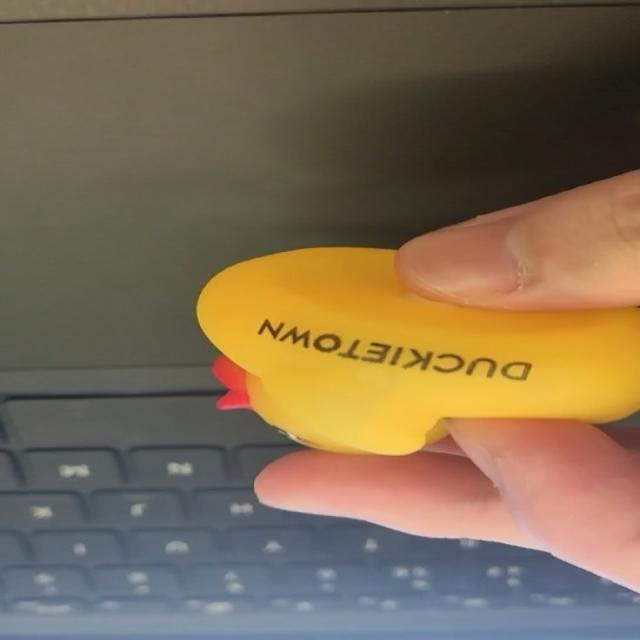rubber-duck: (196, 246, 638, 453)
